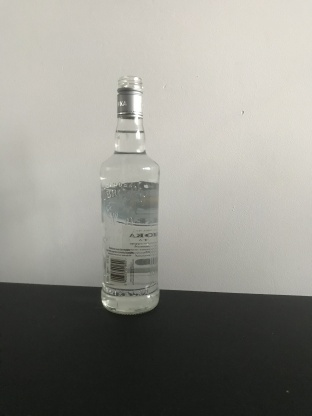nakretka: (114, 72, 145, 120)
